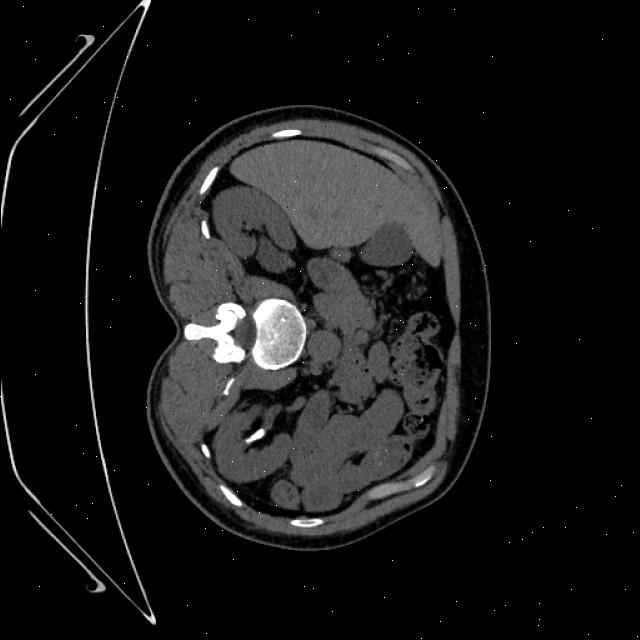kidneystone: (244, 429, 264, 442)
